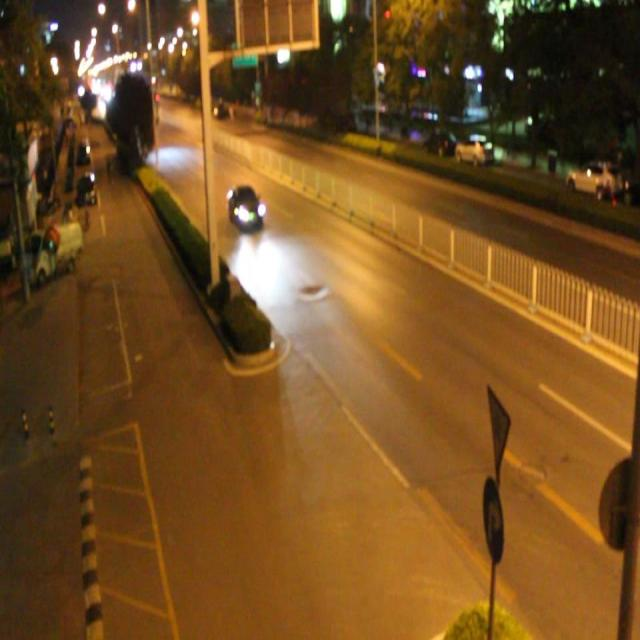car: (227, 185, 262, 229)
